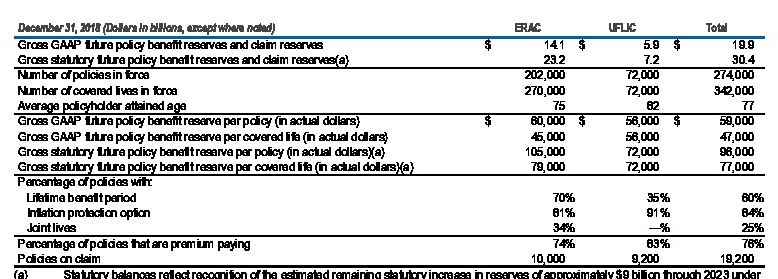table: (0, 0, 778, 279)
